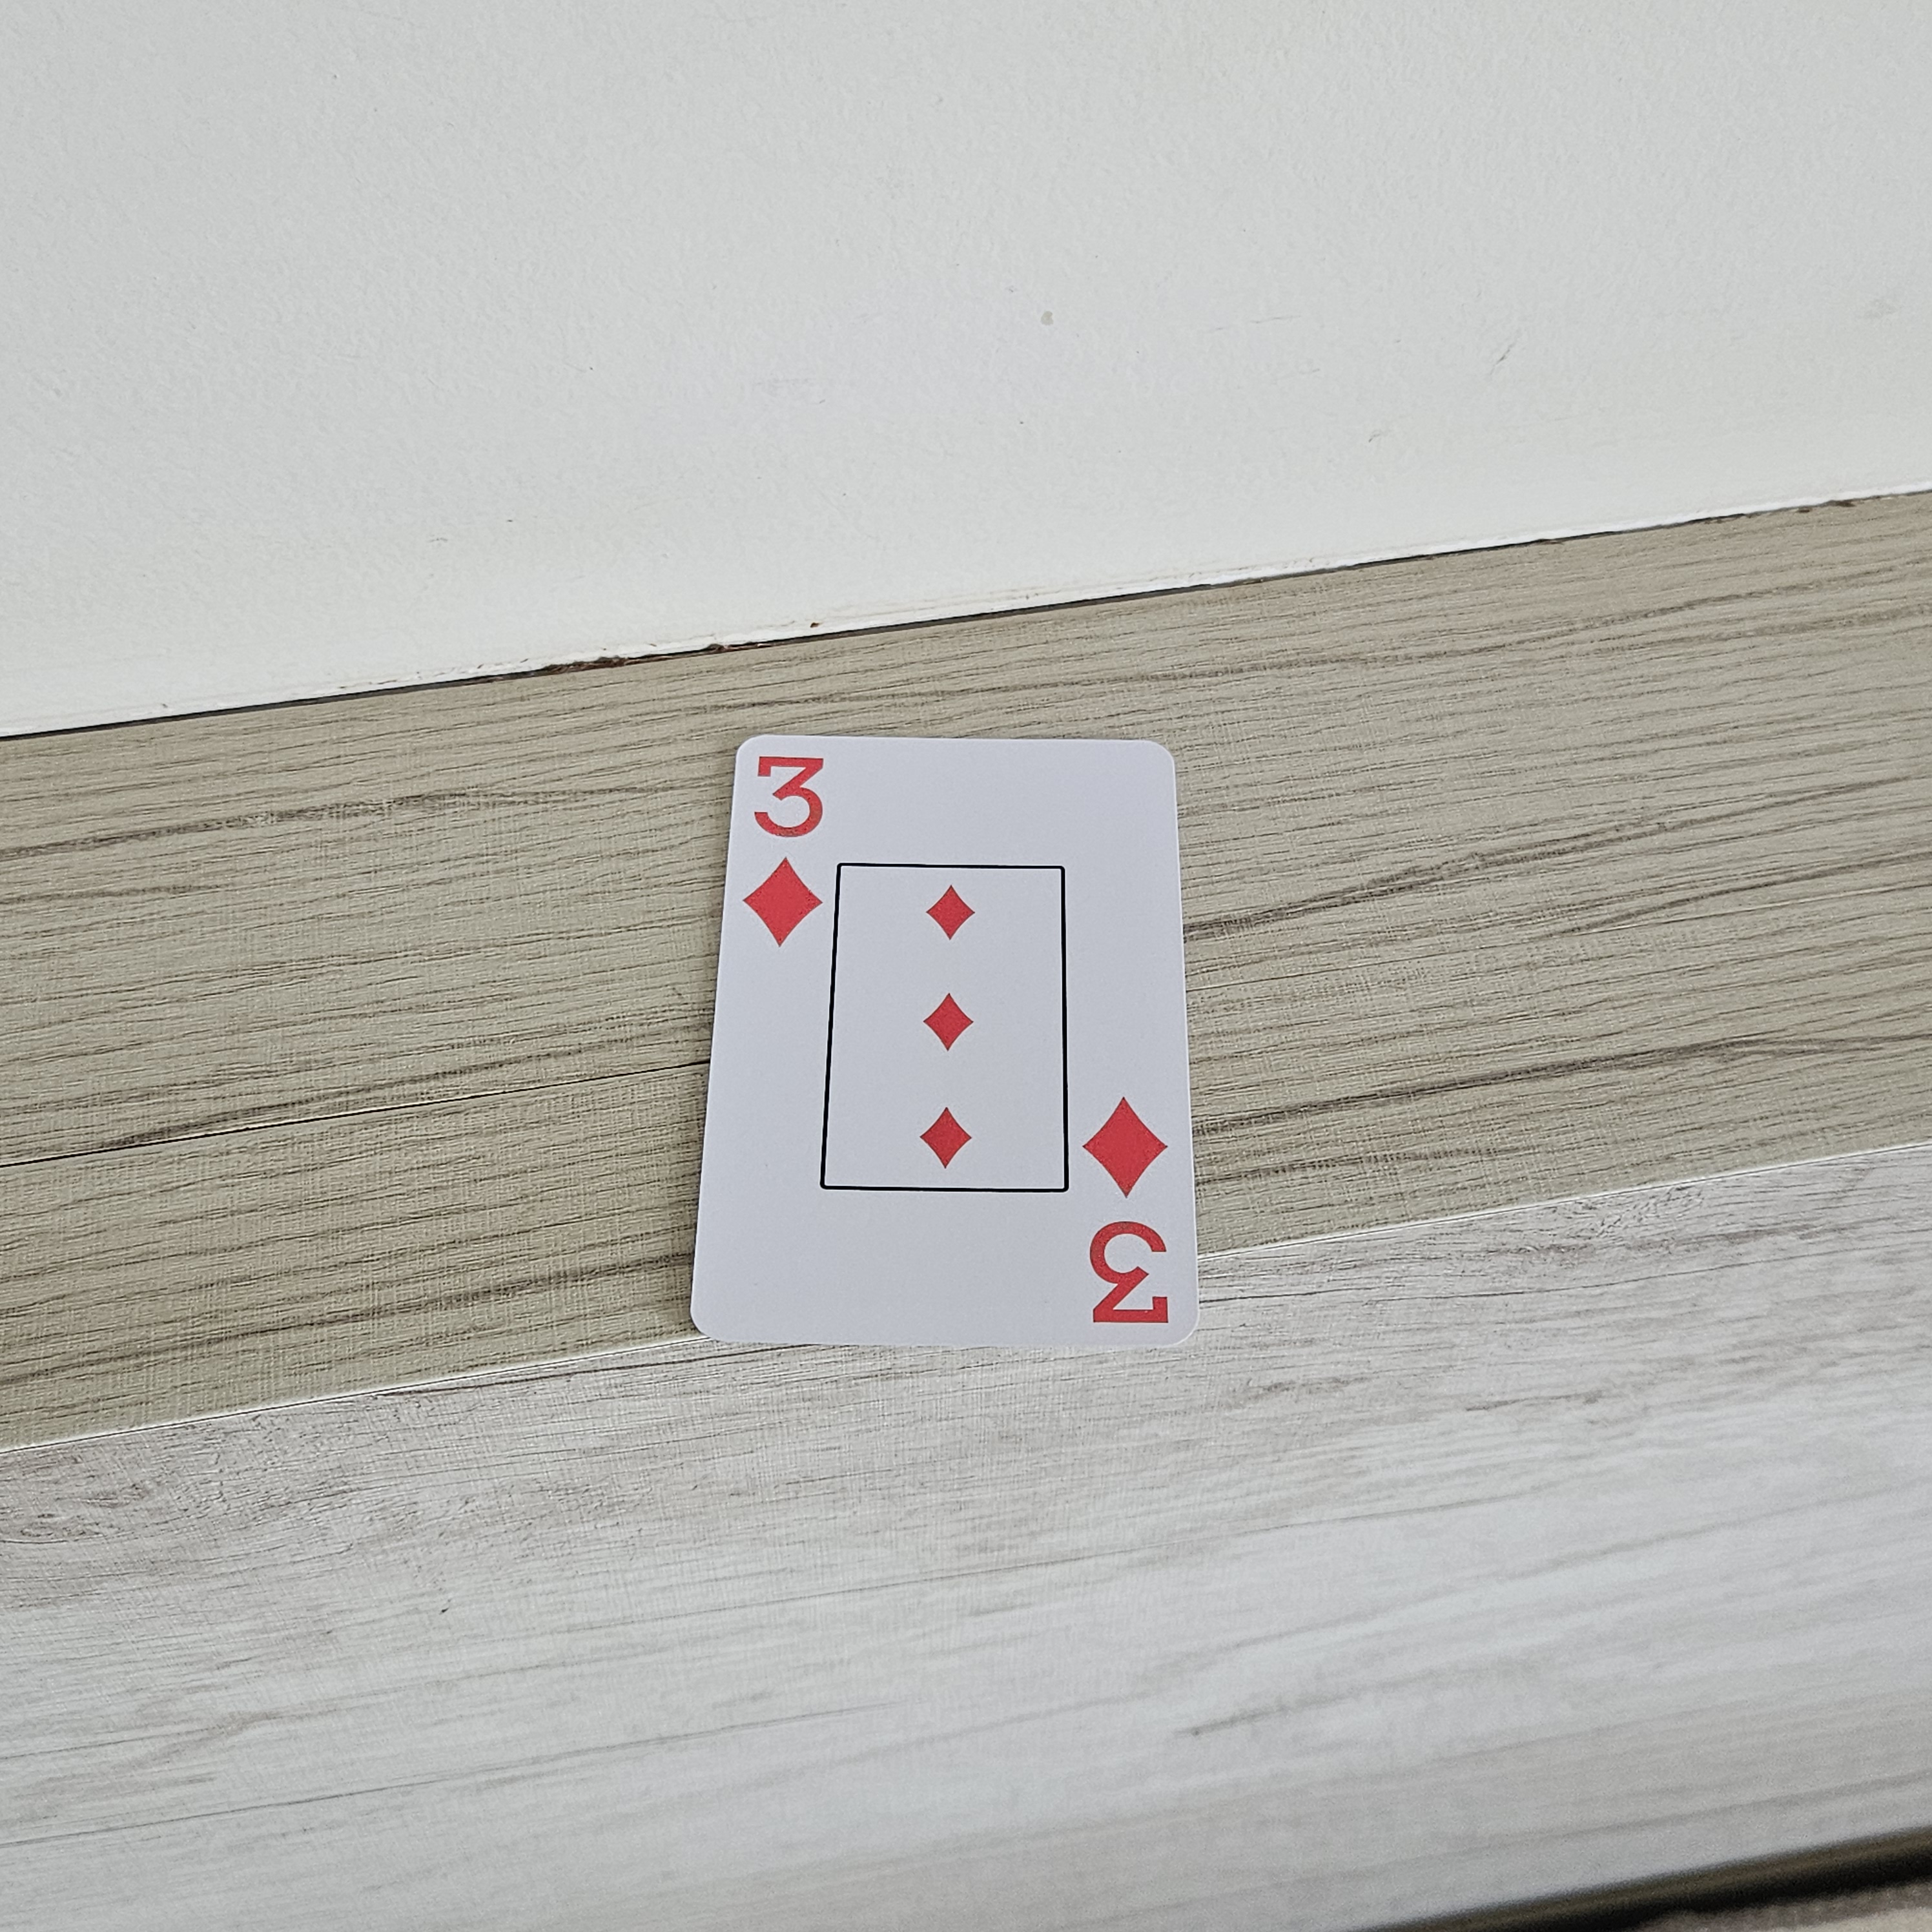3O: (1070, 1086, 1185, 1339), (734, 743, 835, 957)
